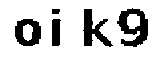9: (118, 7, 149, 51)
i: (49, 3, 65, 53)
k: (79, 6, 114, 52)
o: (11, 16, 45, 51)
